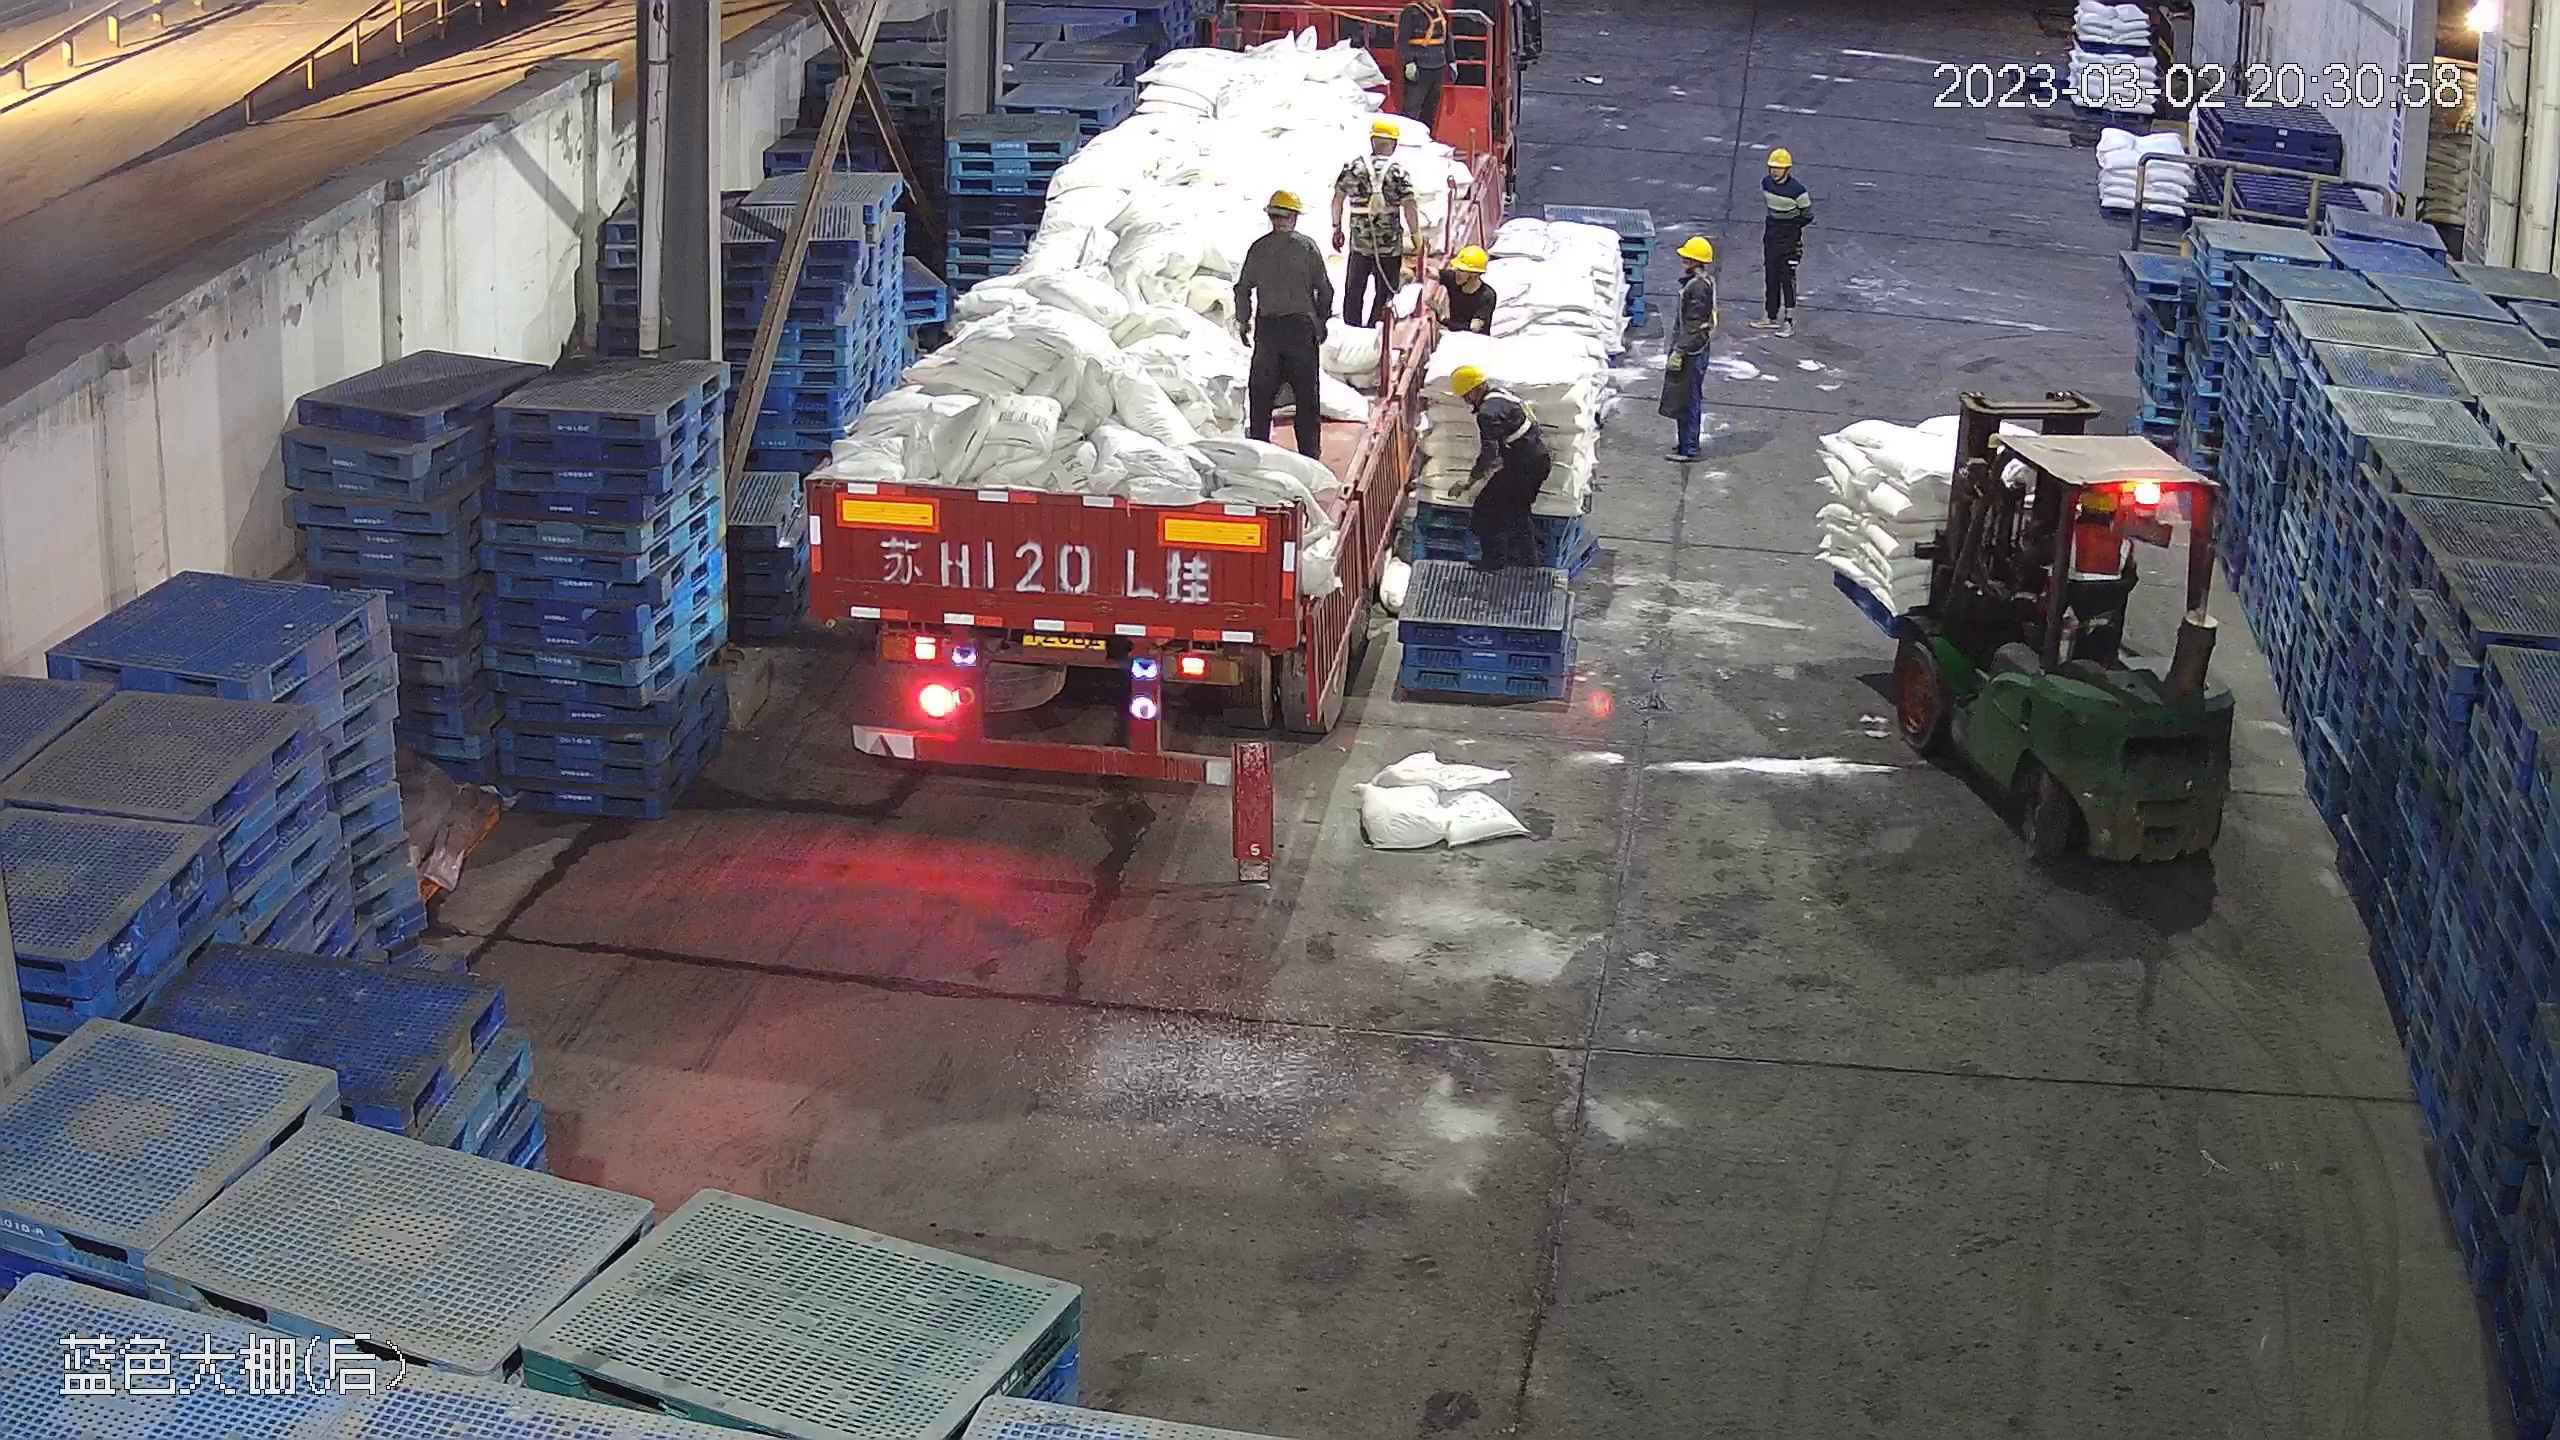belt: (1473, 389, 1540, 452), (1345, 158, 1400, 215), (1403, 2, 1456, 46), (1677, 277, 1720, 332)
head: (1245, 188, 1328, 265), (1451, 361, 1531, 437), (1340, 116, 1413, 188), (1436, 243, 1498, 316), (1672, 233, 1719, 308), (1761, 144, 1807, 200)
helmet: (1450, 363, 1492, 396), (1448, 242, 1489, 270), (1265, 186, 1303, 215), (1679, 236, 1715, 264), (1365, 114, 1401, 139), (1767, 145, 1794, 168)
people: (1227, 186, 1335, 452), (1446, 359, 1557, 586), (1331, 114, 1420, 344), (1655, 232, 1721, 465), (1754, 143, 1814, 322), (1400, 3, 1459, 135)
truck: (801, 4, 1474, 785)
